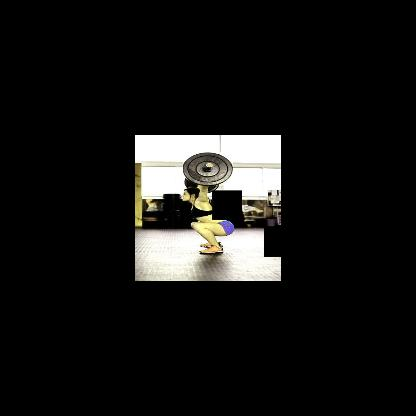barbell: (183, 152, 233, 185)
